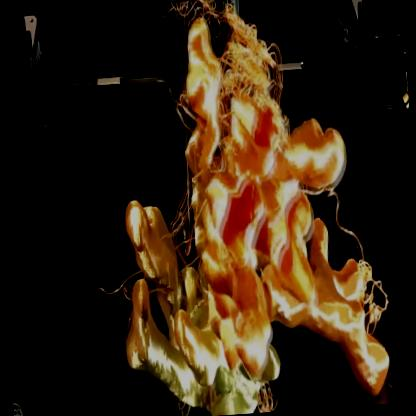fail: (170, 177, 195, 257), (170, 1, 221, 25)
